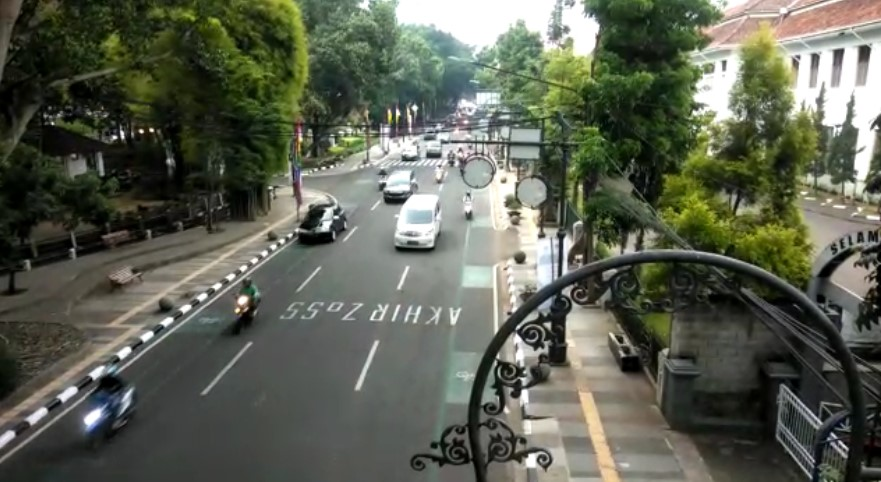mobil: (392, 194, 444, 258), (296, 200, 343, 246), (384, 169, 416, 200)
motor: (76, 366, 139, 449), (229, 280, 266, 330), (460, 191, 479, 221)
